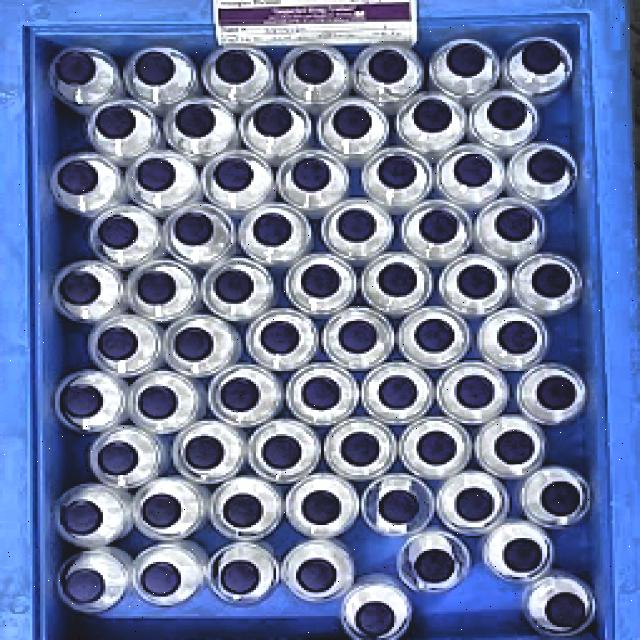vial: (46, 48, 106, 93), (516, 36, 570, 85), (446, 42, 494, 86), (252, 99, 296, 147), (92, 103, 142, 144), (130, 50, 174, 92), (412, 97, 456, 139), (56, 268, 102, 308), (290, 52, 340, 88), (530, 262, 576, 301), (492, 428, 539, 466), (544, 592, 588, 632), (413, 315, 458, 354), (452, 486, 498, 524), (352, 600, 398, 638), (138, 560, 184, 598), (500, 538, 548, 574), (136, 268, 178, 309), (336, 318, 379, 358), (96, 441, 142, 478), (332, 103, 374, 143), (218, 374, 260, 414), (182, 436, 230, 471), (379, 486, 421, 526), (456, 264, 500, 302), (221, 492, 265, 530), (96, 323, 142, 359), (339, 432, 385, 468), (299, 260, 342, 298), (57, 384, 105, 418), (533, 375, 581, 409), (250, 211, 294, 248), (454, 374, 499, 410), (64, 567, 109, 603), (215, 48, 255, 88), (172, 102, 214, 140), (98, 215, 140, 253), (172, 210, 215, 247), (172, 323, 215, 360), (212, 268, 256, 304), (376, 375, 420, 411), (538, 482, 582, 518), (302, 491, 348, 525), (416, 210, 461, 244), (61, 500, 106, 534), (214, 155, 254, 193), (260, 318, 300, 356), (494, 206, 535, 243), (416, 430, 458, 466), (141, 494, 183, 530), (300, 376, 344, 410), (337, 207, 377, 244), (378, 262, 419, 298), (58, 161, 100, 196), (368, 48, 407, 85), (488, 96, 528, 132), (260, 435, 302, 469), (220, 560, 262, 594), (378, 154, 418, 189), (498, 318, 538, 353), (416, 548, 454, 584), (526, 150, 566, 184), (136, 156, 176, 190), (138, 385, 178, 419), (298, 559, 338, 593), (454, 154, 495, 187), (292, 158, 330, 192)
